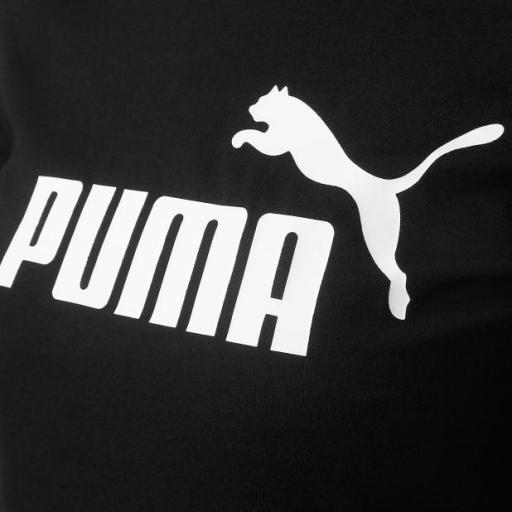Puma: (228, 81, 506, 324)
